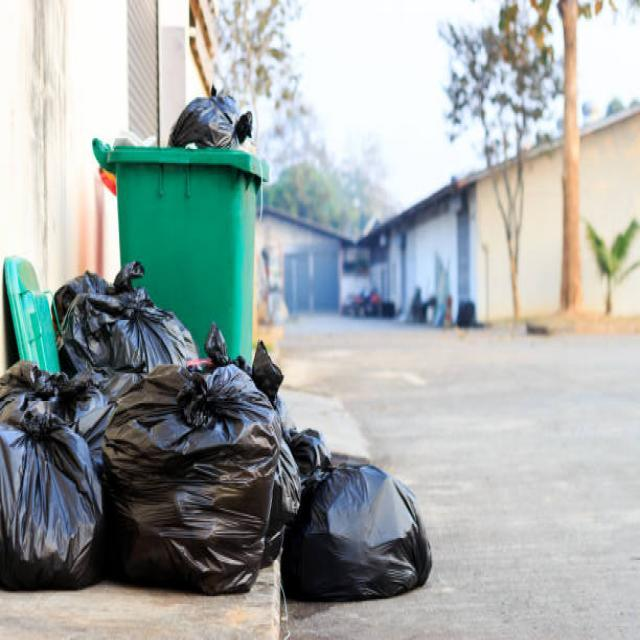garbage: (0, 251, 294, 607), (288, 424, 434, 611), (162, 75, 262, 158)
